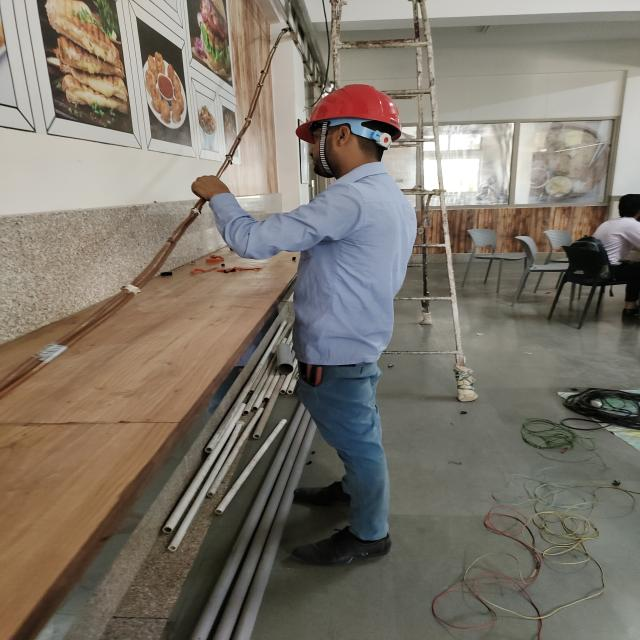no jacket: (273, 86, 416, 566)
